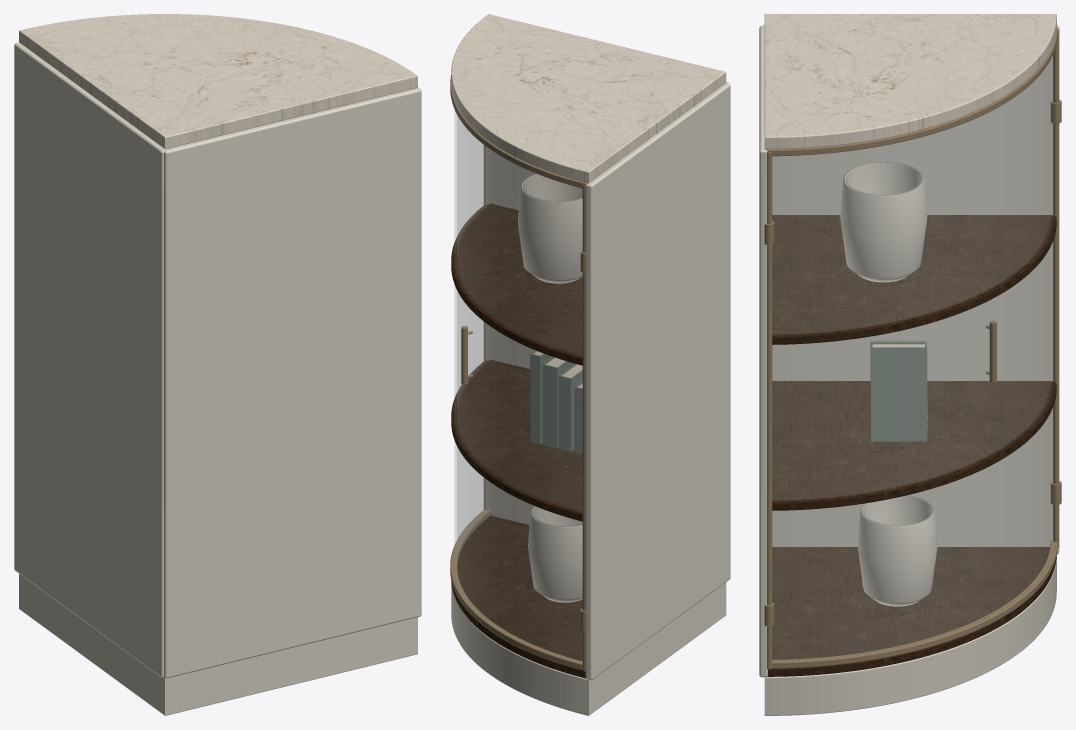
Rendered from storage2-corner-cabinet.glb.
3 renders of one model, left to right at view 1: azimuth 30°, elevation 25°; view 2: azimuth 150°, elevation 25°; view 3: azimuth 270°, elevation 25°, orthographic. The views are drawn at different scales.
Parts seen in each view (by area): view 1: lacquer_surfaces, stone_surfaces; view 2: lacquer_surfaces, glass_surfaces, walnut_surfaces, stone_surfaces, ceramic_surfaces, bronze_surfaces, binding_surfaces; view 3: glass_surfaces, walnut_surfaces, lacquer_surfaces, stone_surfaces, ceramic_surfaces, bronze_surfaces, binding_surfaces.
Boxes of the visible parts, x1,y1,x2,y2 form: lacquer_surfaces: (14, 42, 421, 715); stone_surfaces: (19, 14, 417, 149); lacquer_surfaces: (451, 82, 730, 715); glass_surfaces: (454, 110, 582, 661); walnut_surfaces: (451, 203, 585, 678); stone_surfaces: (451, 14, 726, 183); ceramic_surfaces: (518, 173, 582, 602); bronze_surfaces: (450, 75, 588, 671); binding_surfaces: (530, 350, 582, 454); glass_surfaces: (772, 54, 1053, 659); walnut_surfaces: (767, 215, 1056, 676); lacquer_surfaces: (759, 25, 1059, 715); stone_surfaces: (764, 14, 1056, 149); ceramic_surfaces: (840, 162, 937, 606); bronze_surfaces: (764, 27, 1061, 669); binding_surfaces: (870, 341, 927, 441).
Size of the model in its own units: 0.833 by 1.76 by 0.833.
Materials: 8 (2 with a texture image).
